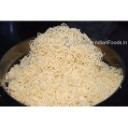idiyappam: (6, 69, 114, 103), (43, 24, 95, 71)
